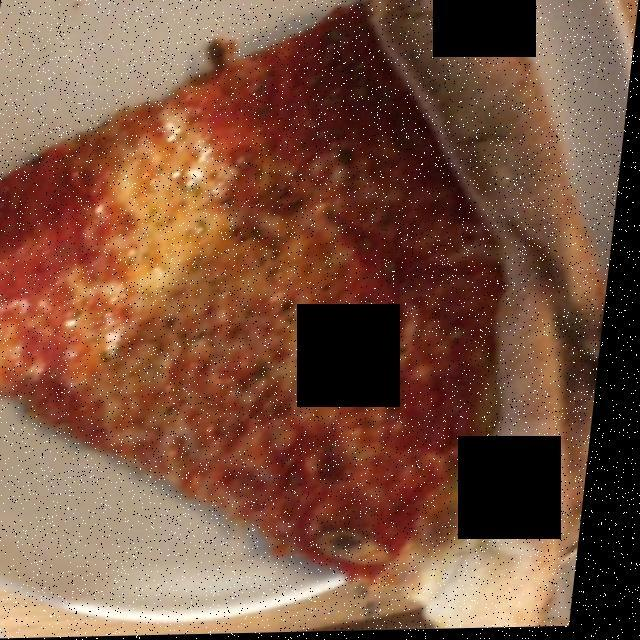pizza: (0, 6, 594, 613)
